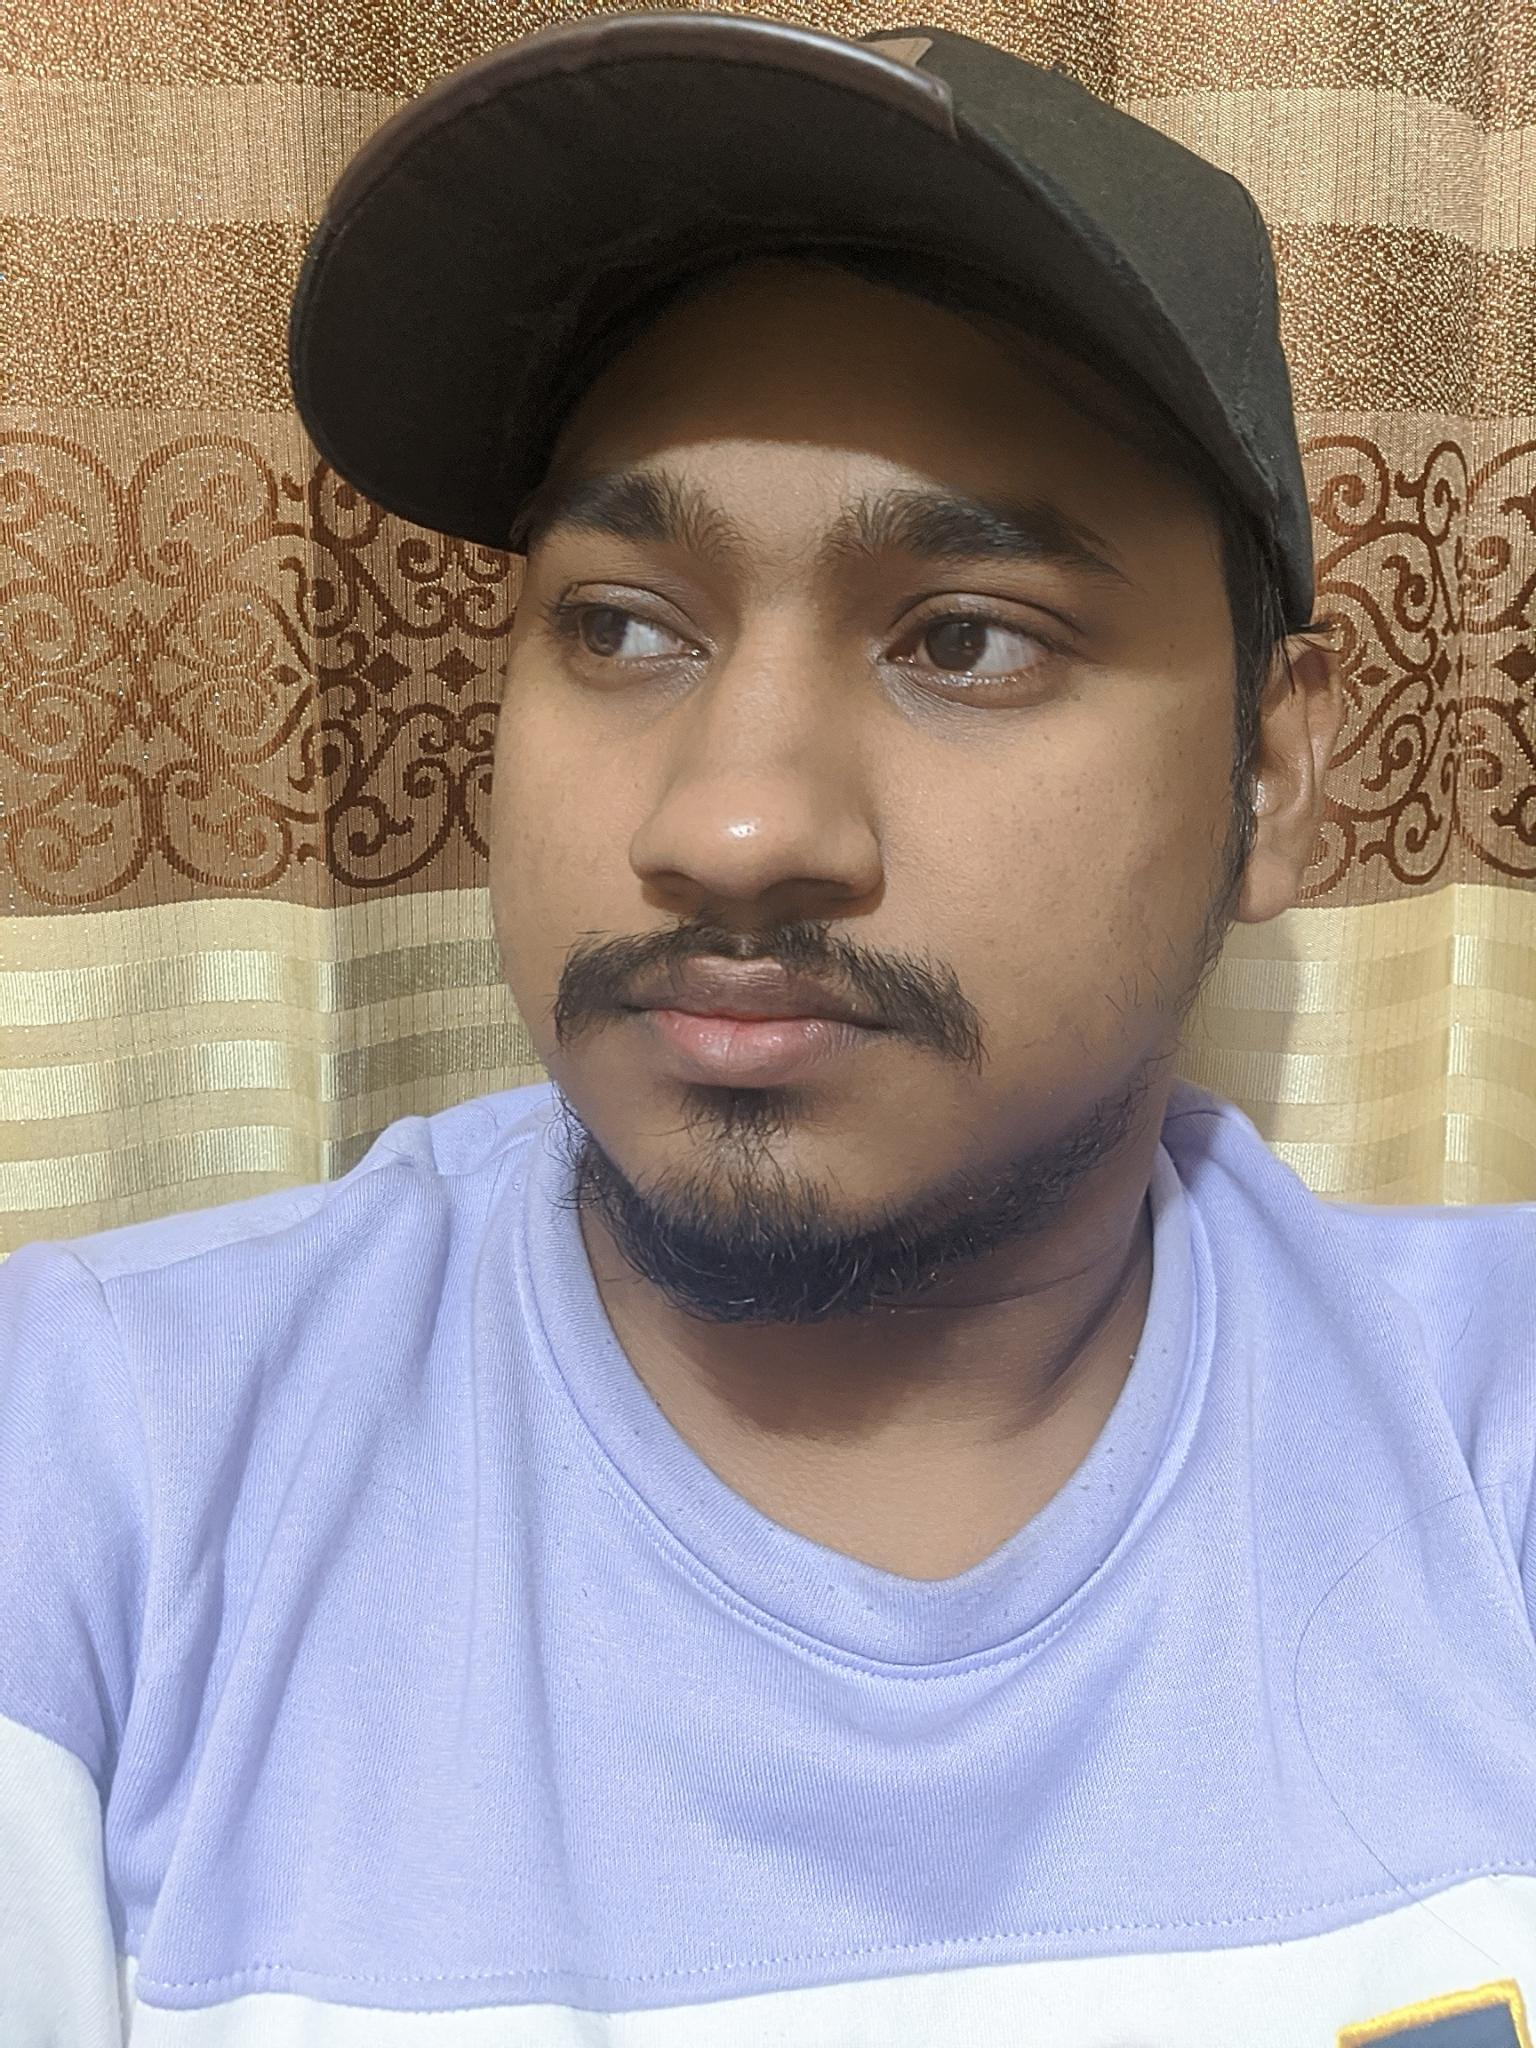Neutral: (382, 353, 1229, 1329)
